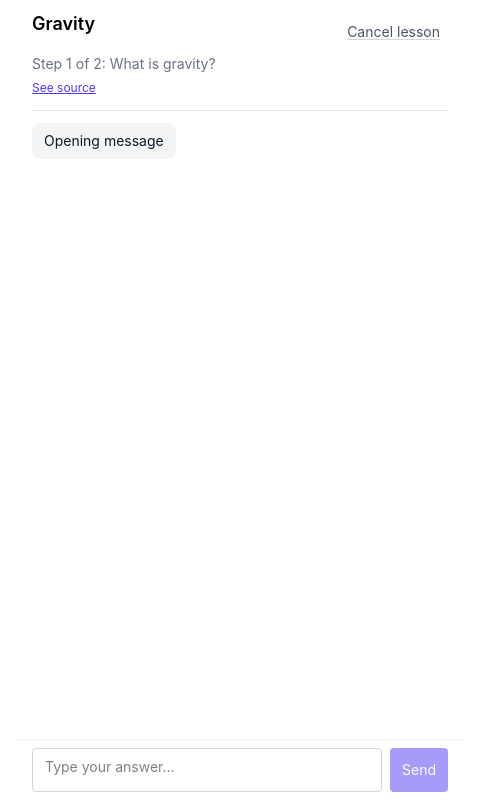
ChatScreen › sends a student message and renders it
Type "Because mass attracts mass" into the text box with placeholder "Type your answer…" at [207, 770], box [32,748,382,792]
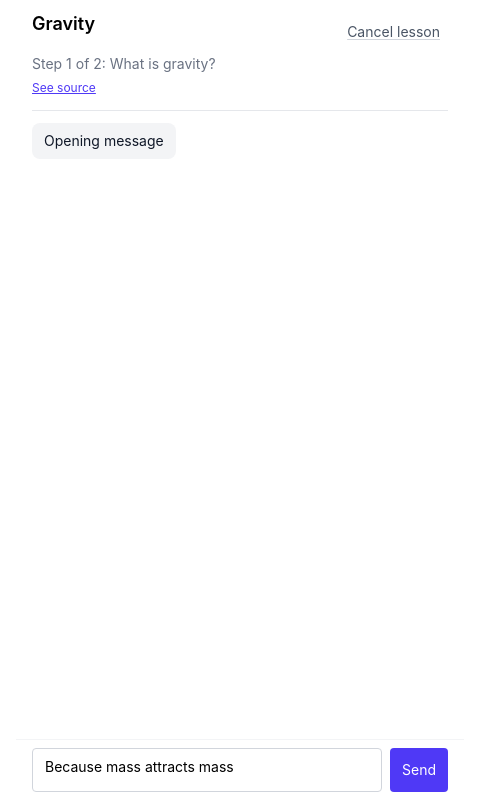
Submit the form with placeholder "type your answer", box [16,739,464,803]
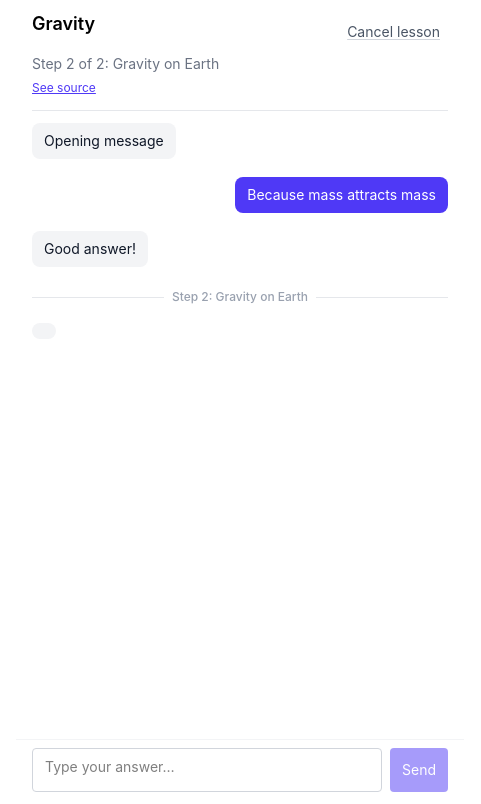
Expected: the text "Because mass attracts mass" is shown, [247,185,436,205]
Expected: the text "Good answer!" is shown, [44,239,136,259]
